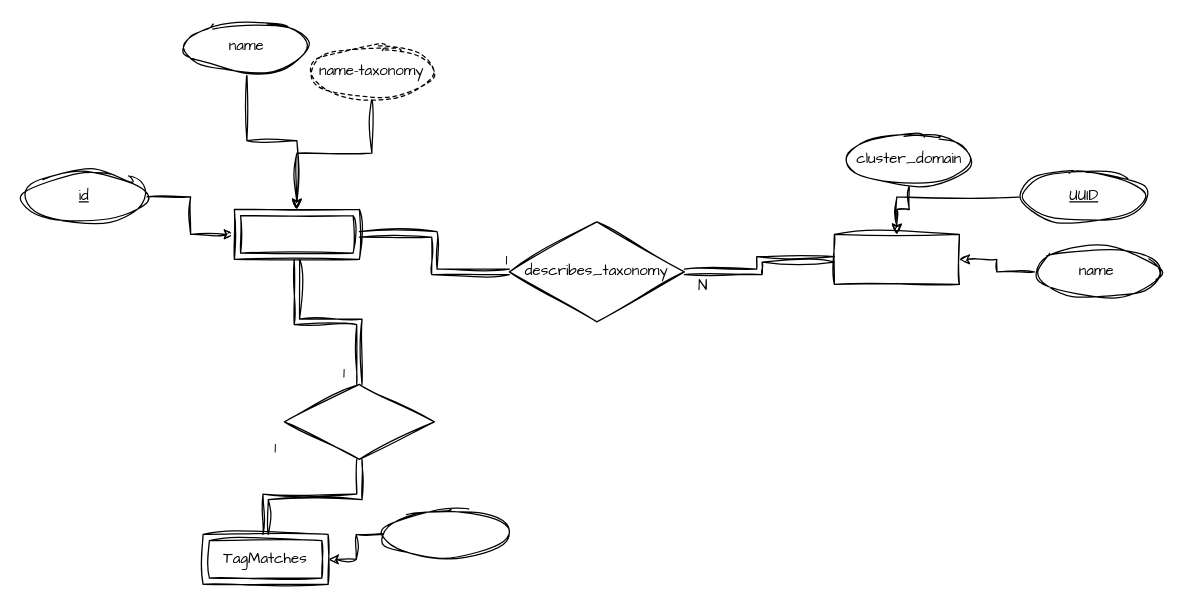
Some shapes in this 1181 by 606 pixel diagram are drawn without their labels. The shapes that lost their labels are listed below. From the top down, each one's centre as x and y in pixels, then its label:
(296,233): Tags
(896,258): TagTaxonomys
(358,421): matches_entity
(446,533): tagged_uuid
